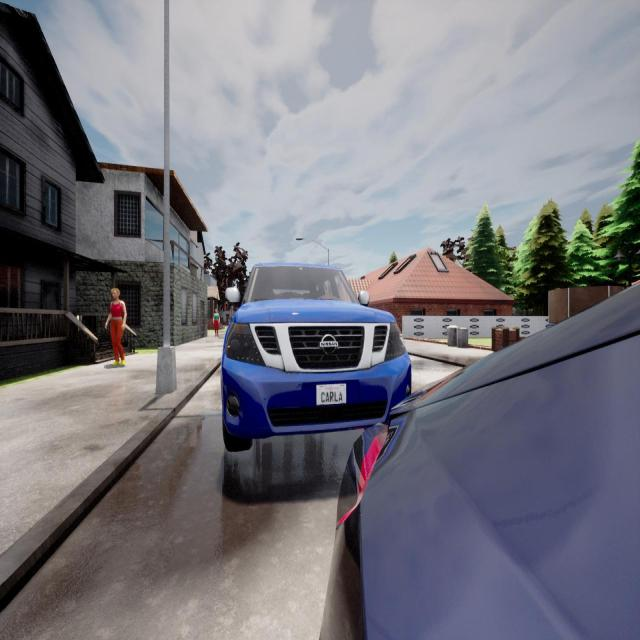Pedestrian: (105, 288, 126, 367), (213, 308, 220, 338)
Vehicle: (320, 285, 640, 638), (223, 263, 411, 451)
